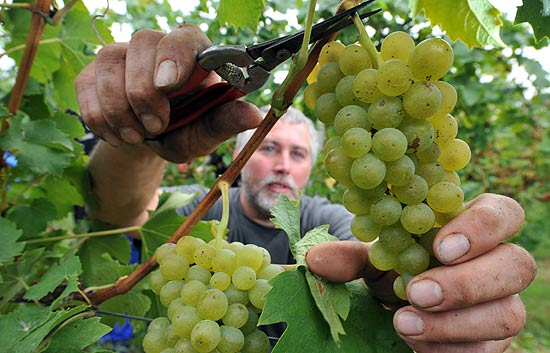Green grapes: (312, 39, 486, 309), (148, 233, 282, 353)
